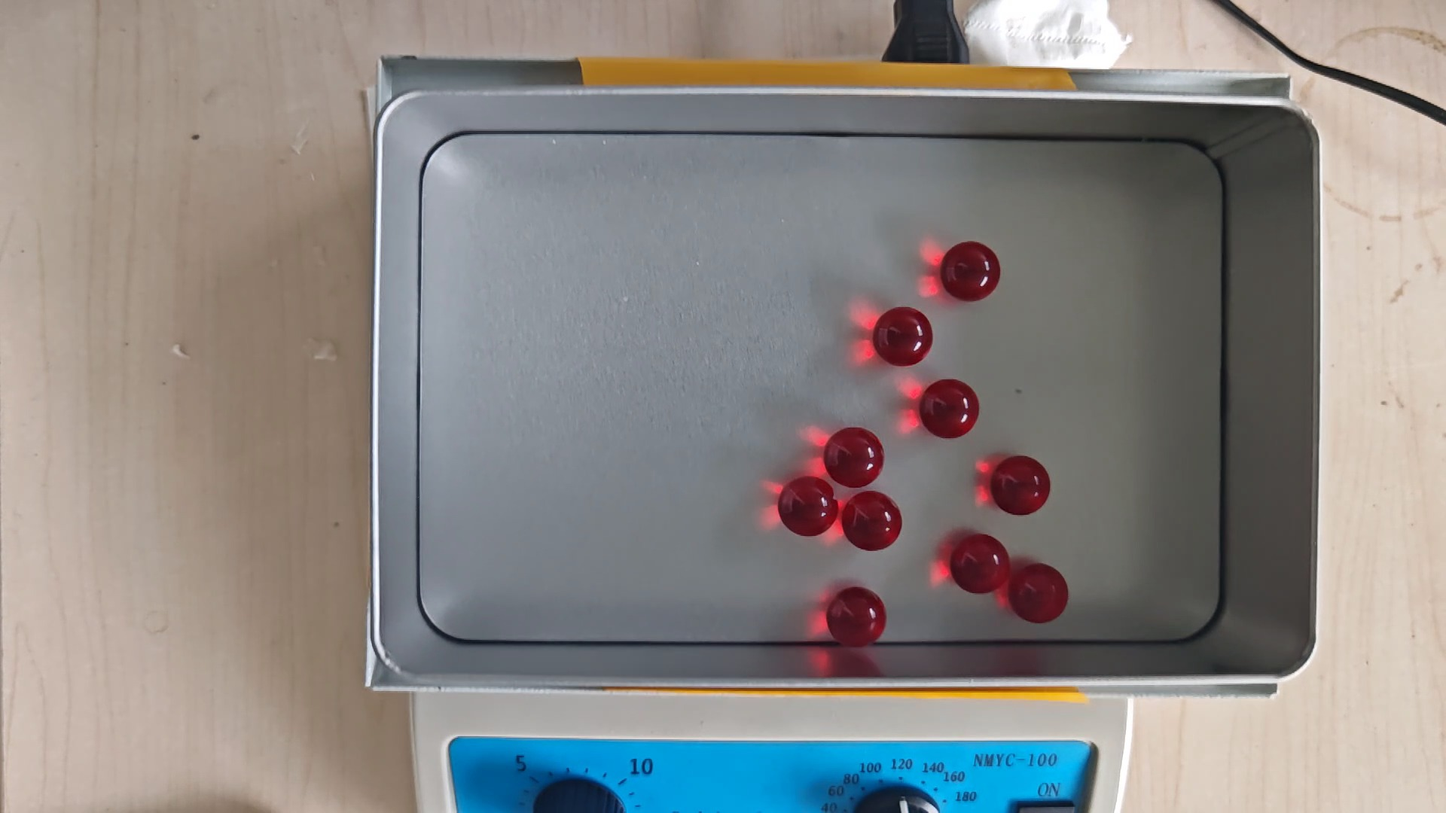ball: (950, 533, 1010, 595), (990, 454, 1050, 516), (940, 241, 1000, 303), (825, 427, 885, 488), (919, 378, 979, 439), (779, 476, 839, 537), (827, 586, 886, 648), (874, 306, 933, 367), (843, 491, 902, 552), (1010, 563, 1068, 623)
container: (418, 134, 1223, 643)
